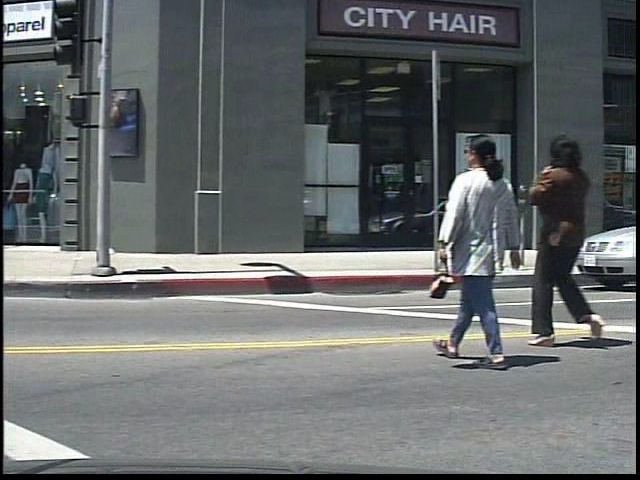person: (449, 121, 531, 371), (534, 125, 620, 352)
